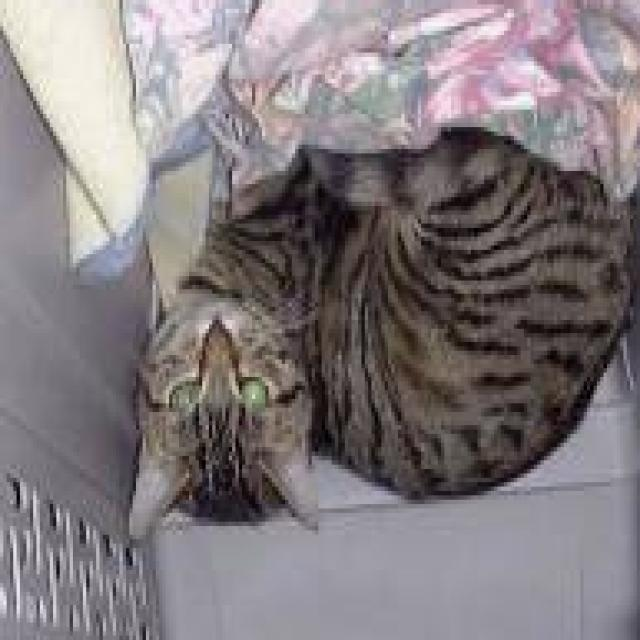Kucing: (108, 96, 630, 580)
